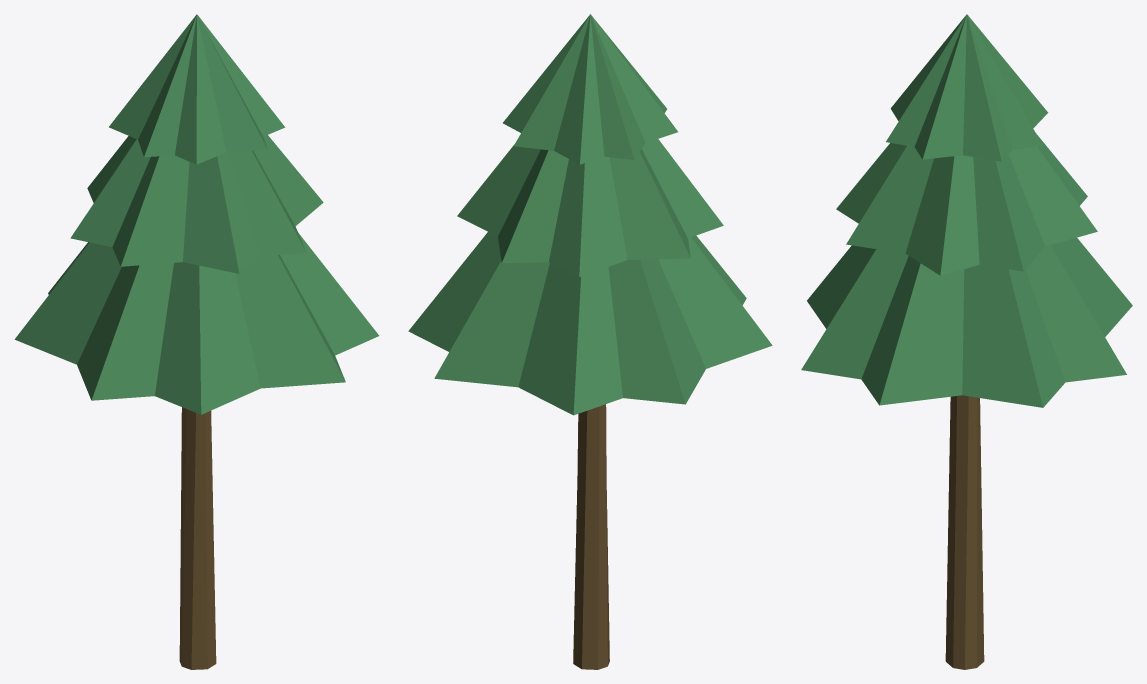
The model's file is Nadelbaum 7.fbx.
3 renders of one model, left to right at view 1: azimuth 30°, elevation 25°; view 2: azimuth 150°, elevation 25°; view 3: azimuth 270°, elevation 25°, orthographic.
Visible parts, largest first — view 1: Pyramide_4, Pyramide_5, Pyramide_3, Pyramide_2, stamm, Pyramide, Pyramide_1; view 2: Pyramide_5, Pyramide_4, Pyramide_2, Pyramide_3, stamm, Pyramide_1, Pyramide; view 3: Pyramide_5, Pyramide_4, Pyramide_3, Pyramide_2, stamm, Pyramide_1, Pyramide.
Part boxes in pixels (x1,y1,x2,y2): Pyramide_4: [14, 232, 379, 414]; Pyramide_5: [48, 242, 345, 400]; Pyramide_3: [70, 135, 323, 273]; Pyramide_2: [87, 136, 306, 266]; stamm: [179, 407, 216, 669]; Pyramide: [109, 14, 285, 164]; Pyramide_1: [138, 14, 267, 157]; Pyramide_5: [408, 232, 772, 415]; Pyramide_4: [434, 235, 746, 404]; Pyramide_2: [457, 139, 723, 277]; Pyramide_3: [498, 149, 690, 263]; stamm: [573, 404, 609, 669]; Pyramide_1: [503, 14, 677, 164]; Pyramide: [514, 14, 666, 159]; Pyramide_5: [801, 237, 1132, 407]; Pyramide_4: [807, 245, 1126, 405]; Pyramide_3: [836, 143, 1097, 275]; Pyramide_2: [846, 133, 1087, 271]; stamm: [945, 395, 984, 669]; Pyramide_1: [886, 14, 1048, 161]; Pyramide: [890, 14, 1042, 159].
Size of the model in its own units: 422 by 909 by 422.
